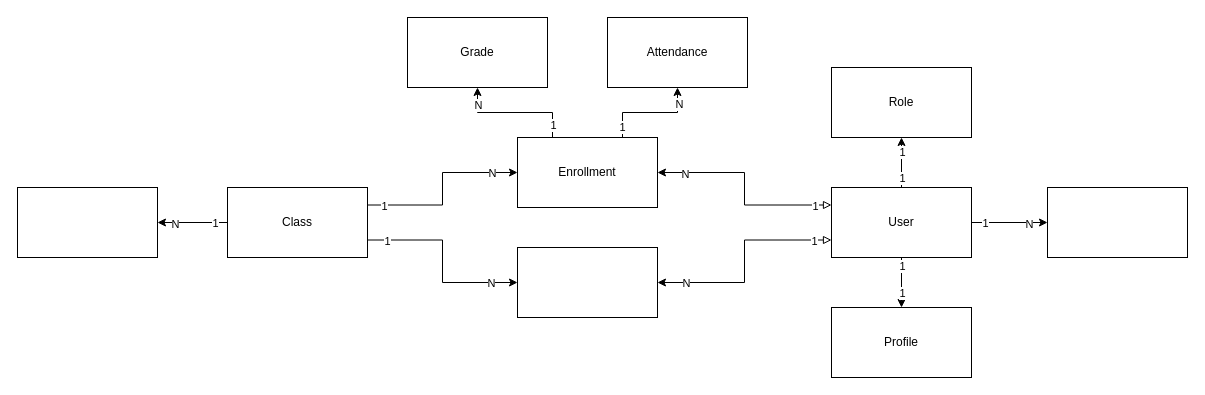
This 1205x395 diagram has some shape labels left out. The centre of each missing label's shape, as x and y in pixels:
ClassAssignment: the point at 587,282
Material: the point at 87,222
Notification: the point at 1117,222
